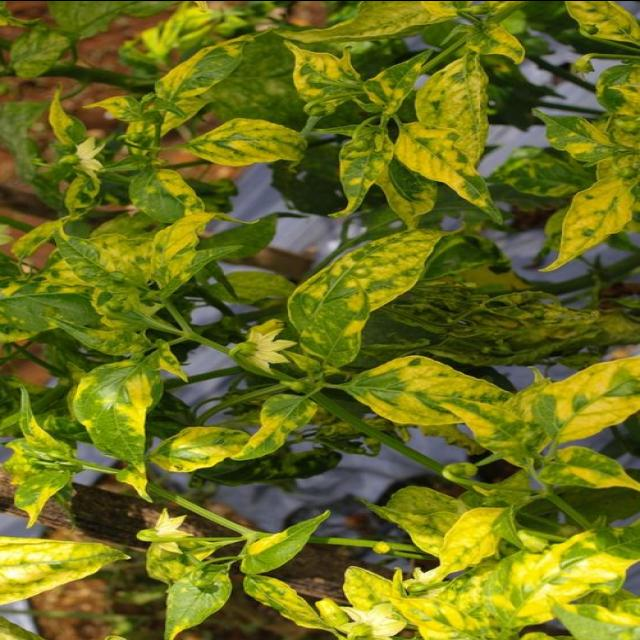virus_kuning: (291, 235, 427, 371), (331, 354, 517, 435), (406, 125, 506, 218), (532, 170, 622, 272), (421, 505, 512, 577)
